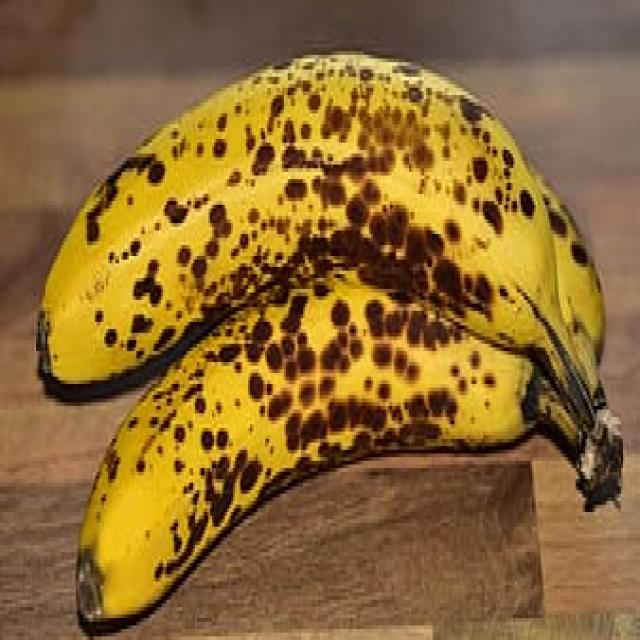banana: (32, 42, 627, 640)
